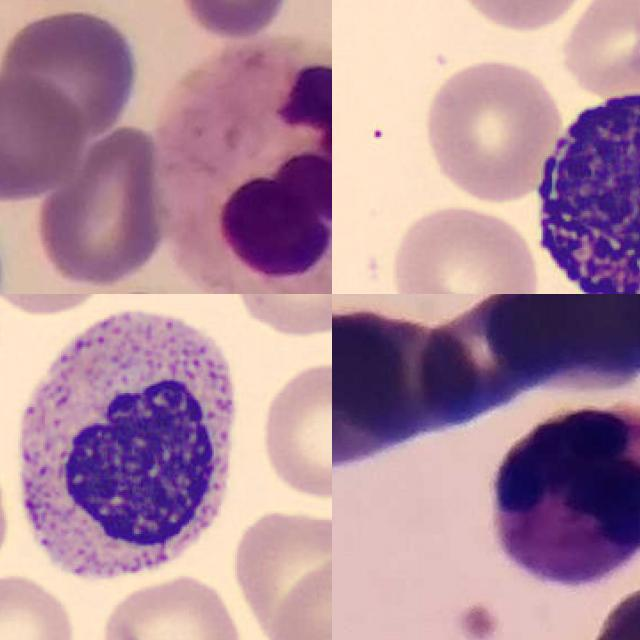Basophil: (521, 77, 640, 294)
Lymphocyte: (0, 294, 251, 596)
Neutrophil: (155, 33, 332, 294), (489, 401, 640, 586)
RBC: (418, 53, 566, 208), (386, 200, 542, 294), (256, 356, 332, 500), (96, 572, 247, 640), (559, 0, 640, 98), (265, 551, 332, 640), (0, 572, 78, 640), (226, 294, 332, 341), (445, 0, 591, 31)
